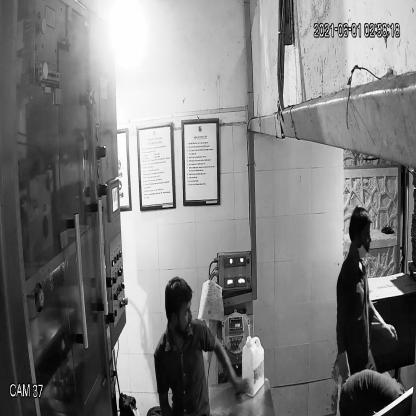no_goggles: (164, 301, 193, 326)
